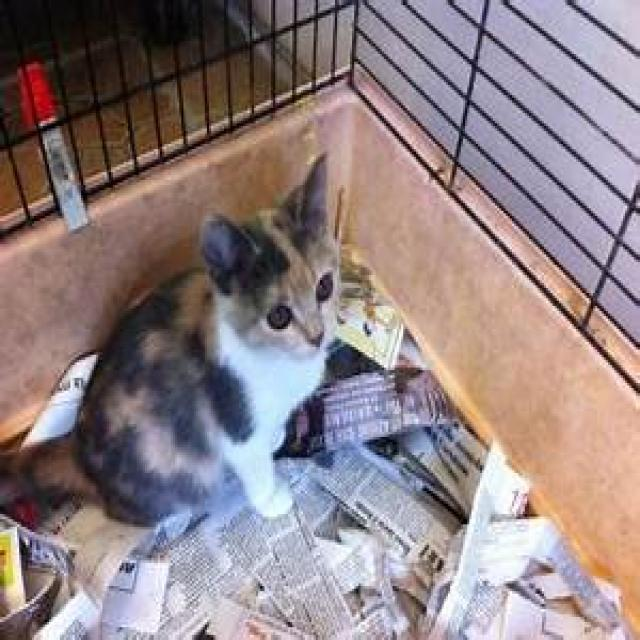animal: (0, 149, 343, 532)
